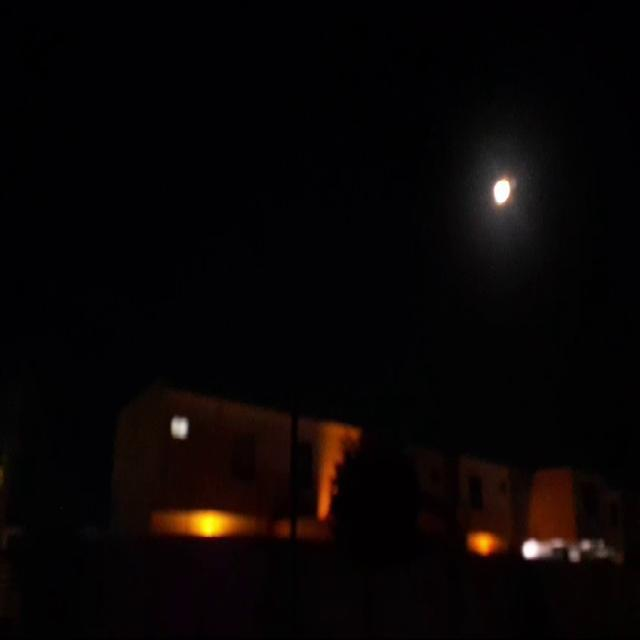moon: (492, 170, 515, 204)
